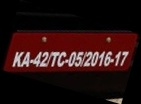character: (11, 50, 23, 66), (20, 51, 30, 67), (74, 50, 83, 67), (39, 51, 48, 67), (103, 50, 112, 66), (33, 50, 41, 67), (50, 51, 59, 66), (56, 51, 65, 66), (83, 51, 92, 66), (68, 50, 76, 66), (90, 50, 98, 66), (97, 50, 105, 66), (120, 50, 128, 66), (114, 51, 120, 66)
